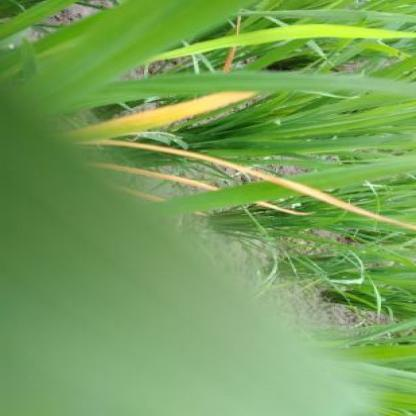Tungro: (67, 87, 254, 144)
